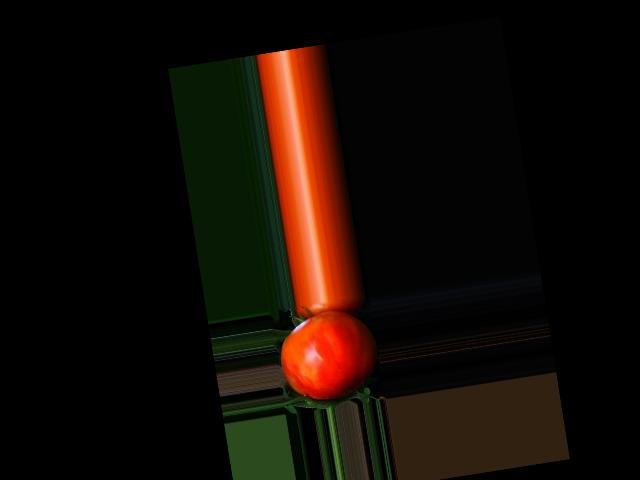tomato: (274, 305, 383, 405)
